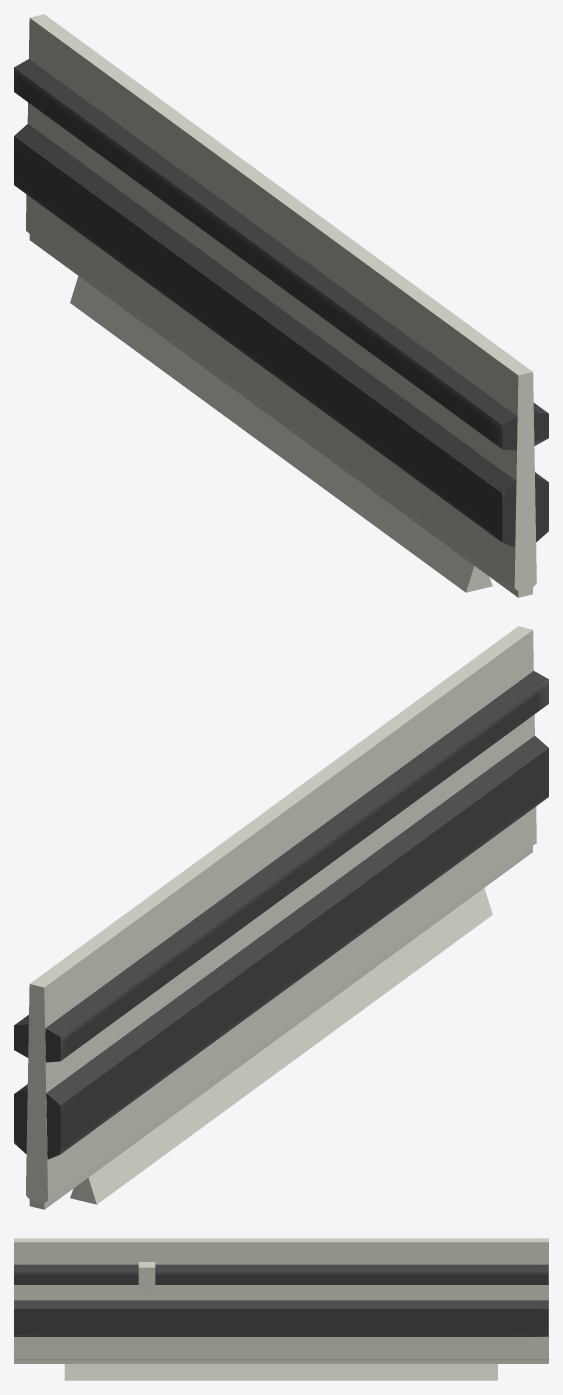
Rendered from Valla7.fbx.
The picture shows the model from 3 angles, top to bottom: view 1: azimuth 30°, elevation 25°; view 2: azimuth 150°, elevation 25°; view 3: azimuth 270°, elevation 25°; orthographic projection. The views are drawn at different scales.
Parts seen in each view (by area): view 1: Cube; view 2: Cube; view 3: Cube.
Part boxes in pixels (box(x1,y1,x2,y2)): Cube: box(14, 14, 548, 597); Cube: box(14, 626, 548, 1209); Cube: box(14, 1238, 548, 1380).
Bounding box in the file's own units: 49.39 × 225 × 797.
1 material, 1 textured.
